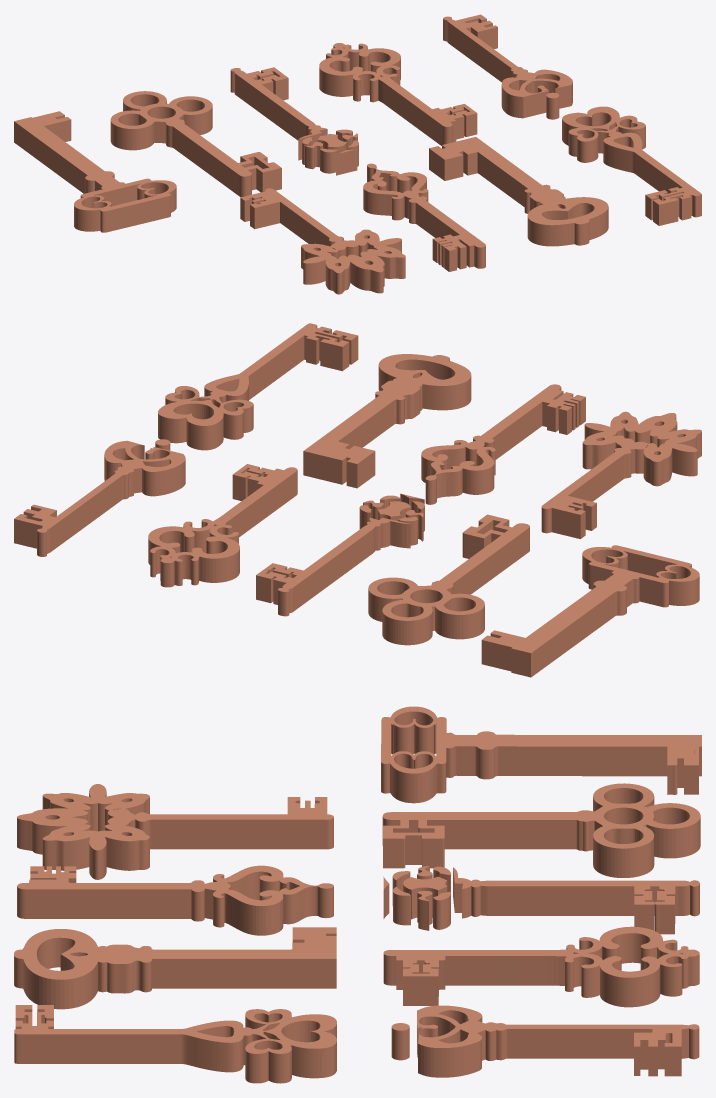
The model's file is Mideval Keys.fbx.
3 renders of one model, top to bottom at view 1: azimuth 30°, elevation 25°; view 2: azimuth 150°, elevation 25°; view 3: azimuth 270°, elevation 25°, orthographic. The views are drawn at different scales.
Parts seen in each view (by area): view 1: Curve.005, Curve.004, Curve.006, Curve.008, Curve.009, Curve.002, Curve.001, Curve.007, Curve.003; view 2: Curve.005, Curve.004, Curve.006, Curve.008, Curve.009, Curve.002, Curve.001, Curve.007, Curve.003; view 3: Curve.004, Curve.005, Curve.006, Curve.008, Curve.009, Curve.002, Curve.007, Curve.001, Curve.003.
Boxes of the visible parts, x1,y1,x2,y2 form: Curve.005: (14,111,176,232); Curve.004: (110,91,281,197); Curve.006: (240,188,405,294); Curve.008: (429,137,608,246); Curve.009: (562,106,701,225); Curve.002: (319,43,477,145); Curve.001: (443,14,572,119); Curve.007: (363,163,485,271); Curve.003: (230,67,358,175); Curve.005: (481,545,699,677); Curve.004: (368,514,529,645); Curve.006: (541,411,701,538); Curve.008: (303,354,471,488); Curve.009: (158,323,358,450); Curve.002: (148,464,297,587); Curve.001: (14,439,185,556); Curve.007: (421,384,585,504); Curve.003: (256,493,424,616); Curve.004: (382,783,700,877); Curve.005: (381,706,701,803); Curve.006: (17,784,333,879); Curve.008: (14,927,336,1009); Curve.009: (14,1005,336,1083); Curve.002: (383,926,699,1007); Curve.007: (17,865,333,935); Curve.001: (391,1005,699,1077); Curve.003: (383,866,699,934).
Bounding box in the file's own units: 554 × 21.99 × 464.
